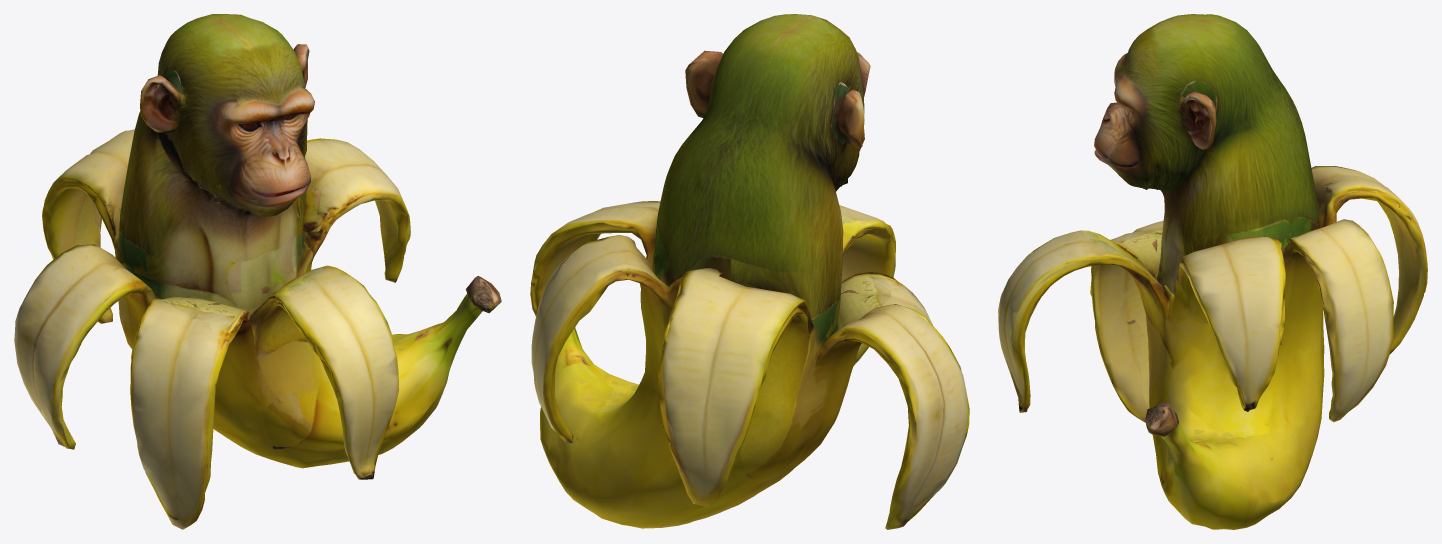
The model's file is chimpanzini_bananini.glb.
3 renders of one model, left to right at view 1: azimuth 30°, elevation 25°; view 2: azimuth 150°, elevation 25°; view 3: azimuth 270°, elevation 25°, orthographic. The views are drawn at different scales.
Parts seen in each view (by area): view 1: Object_4; view 2: Object_4; view 3: Object_4.
Part boxes in pixels (x1,y1,x2,y2): Object_4: [14, 14, 501, 529]; Object_4: [530, 14, 969, 529]; Object_4: [998, 14, 1427, 529].
Size of the model in its own units: 1.87 by 2 by 1.77.
Materials: 1 (1 with a texture image).
